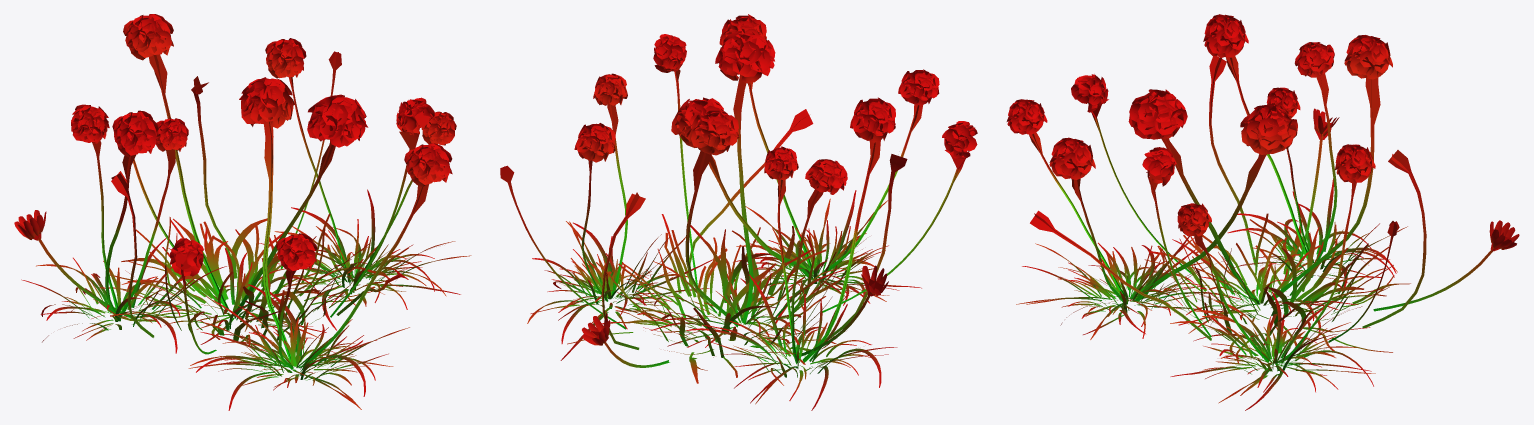
The model's file is Var1_LOD0.fbx.
The picture shows the model from 3 angles, left to right: view 1: azimuth 30°, elevation 25°; view 2: azimuth 150°, elevation 25°; view 3: azimuth 270°, elevation 25°; orthographic projection. The views are drawn at different scales.
Parts seen in each view (by area): view 1: _nxyh_Var1_LOD0; view 2: _nxyh_Var1_LOD0; view 3: _nxyh_Var1_LOD0.
Boxes of the visible parts, x1,y1,x2,y2 form: _nxyh_Var1_LOD0: (14,14,471,410); _nxyh_Var1_LOD0: (500,14,977,410); _nxyh_Var1_LOD0: (1006,14,1519,410).
Size of the model in its own units: 30.99 by 22.01 by 36.84.
